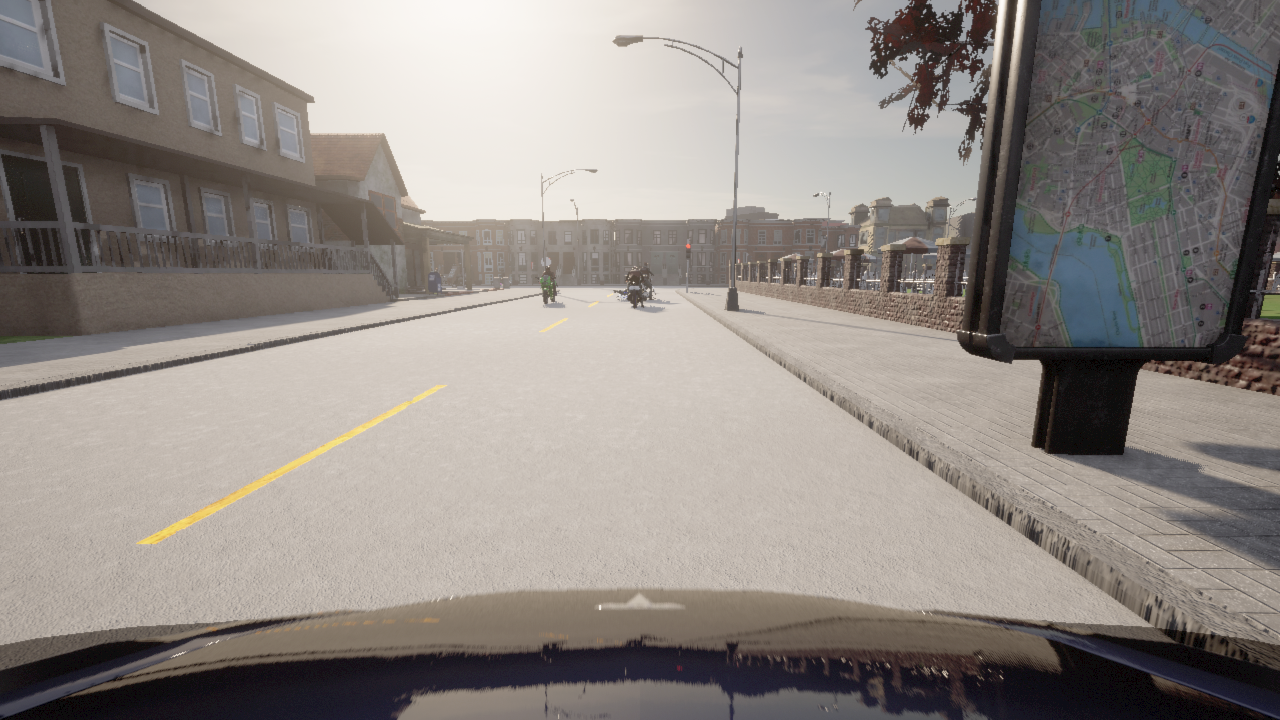cyclist: (0, 588, 1279, 719), (624, 274, 646, 308), (535, 275, 557, 303), (642, 279, 654, 297), (452, 276, 466, 286), (616, 294, 627, 299), (442, 279, 450, 283), (500, 283, 502, 285)
